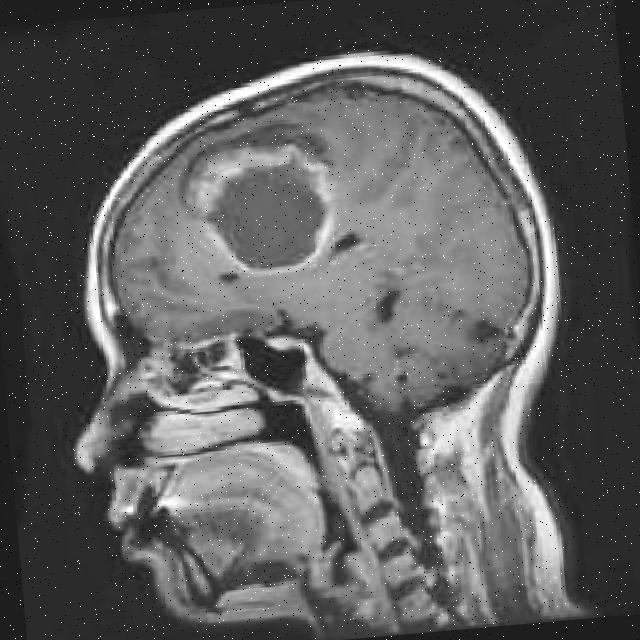MCI: (174, 136, 372, 278)
